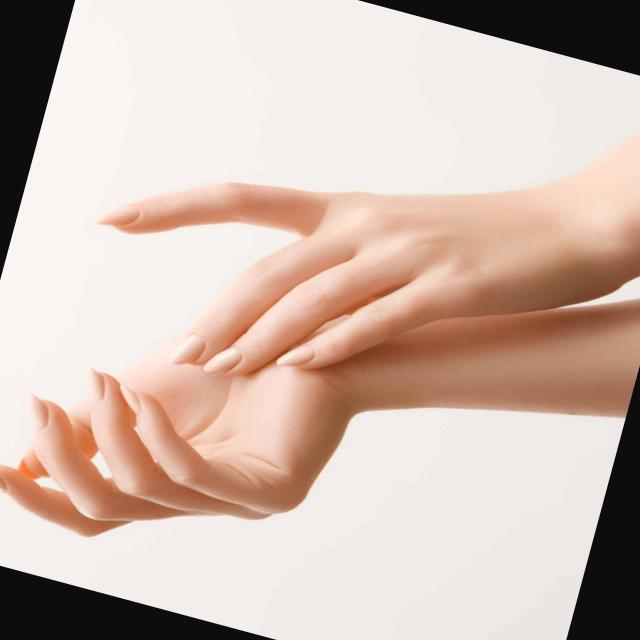Hand: (54, 70, 608, 464), (0, 239, 387, 606)
